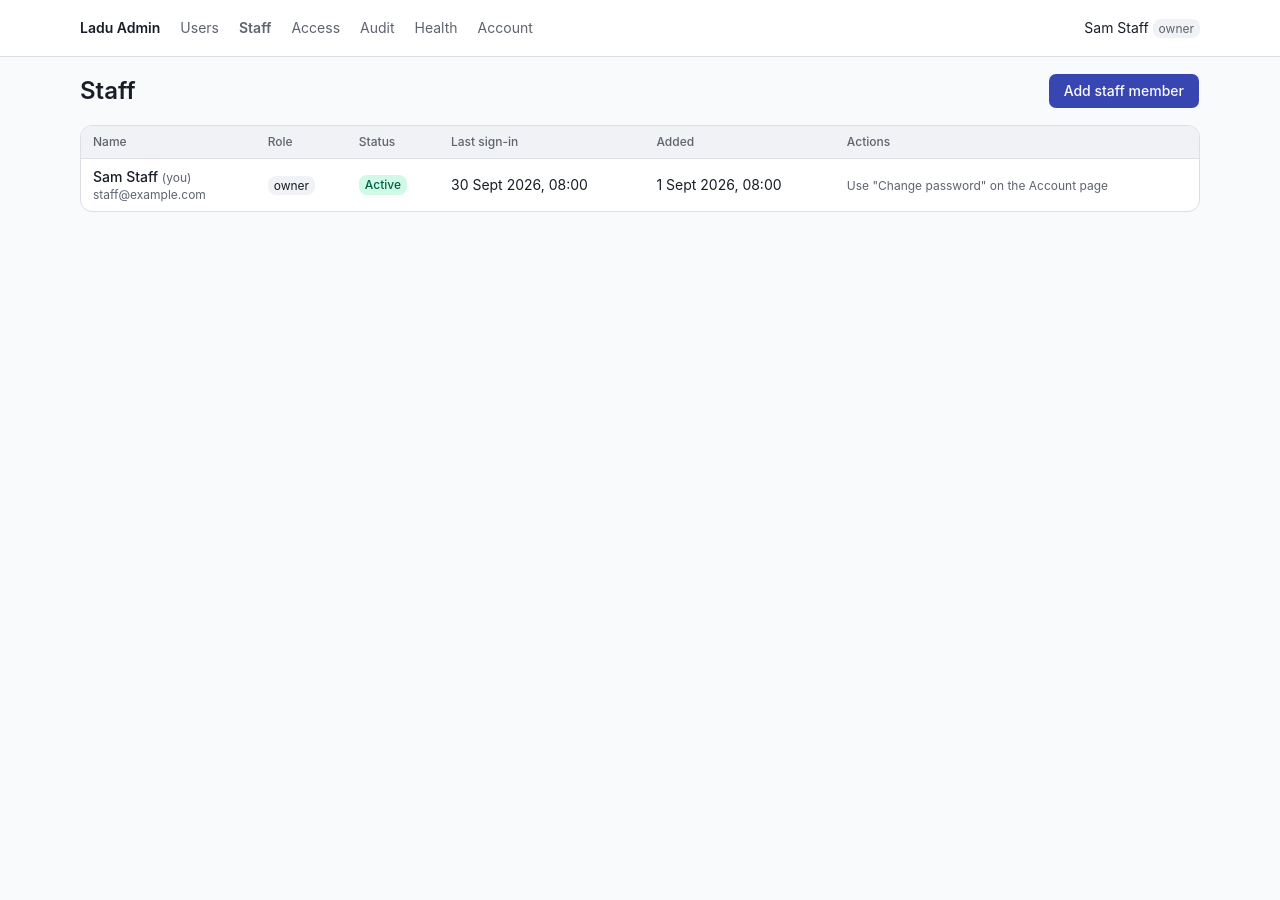
Scenario: add a staff member › closes on Cancel and sends nothing
Step 1. Click the button "Add staff member" → (1124, 91), box 1048,73 -> 1200,109
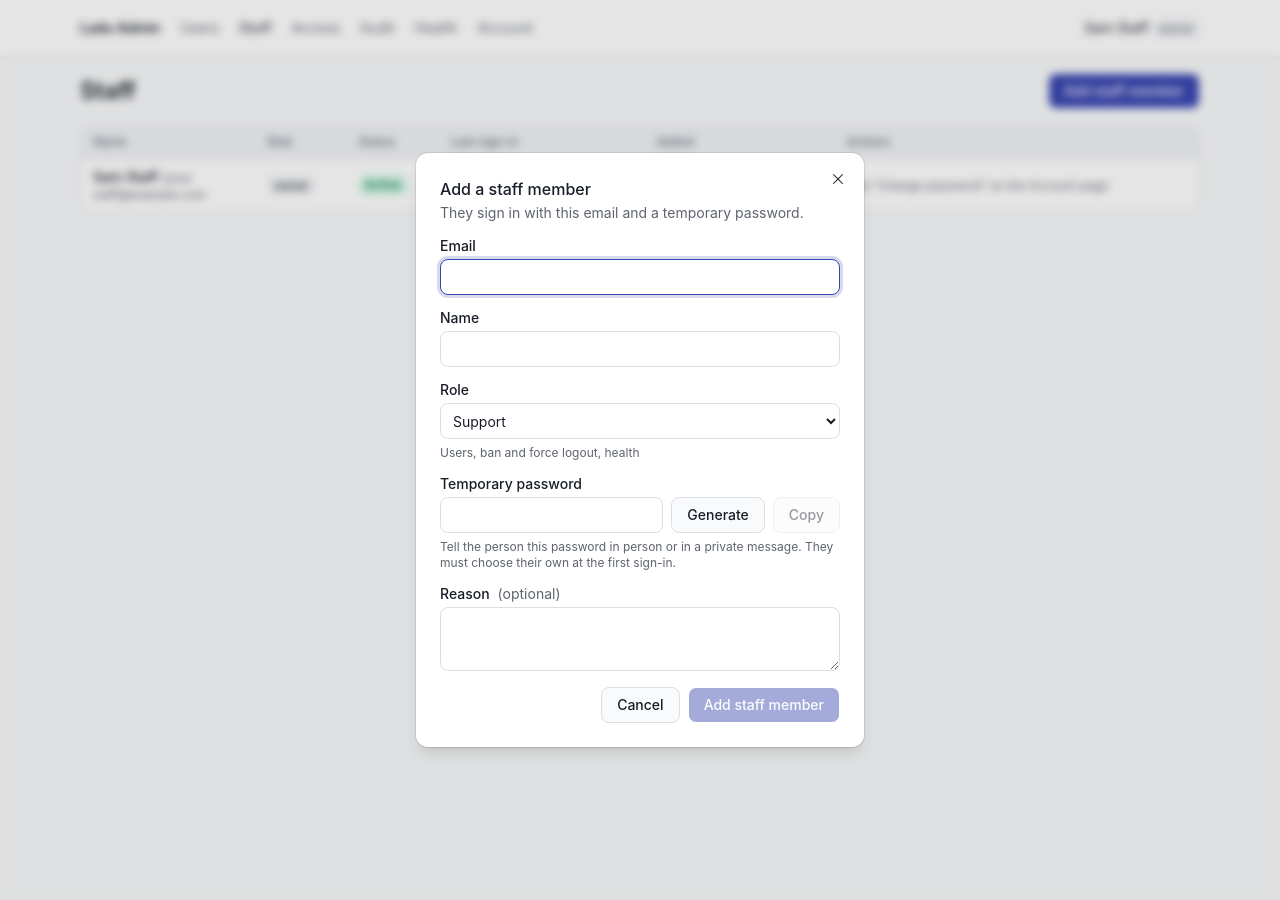
Step 2. Click the button "Cancel" → (640, 705), box 601,687 -> 680,723
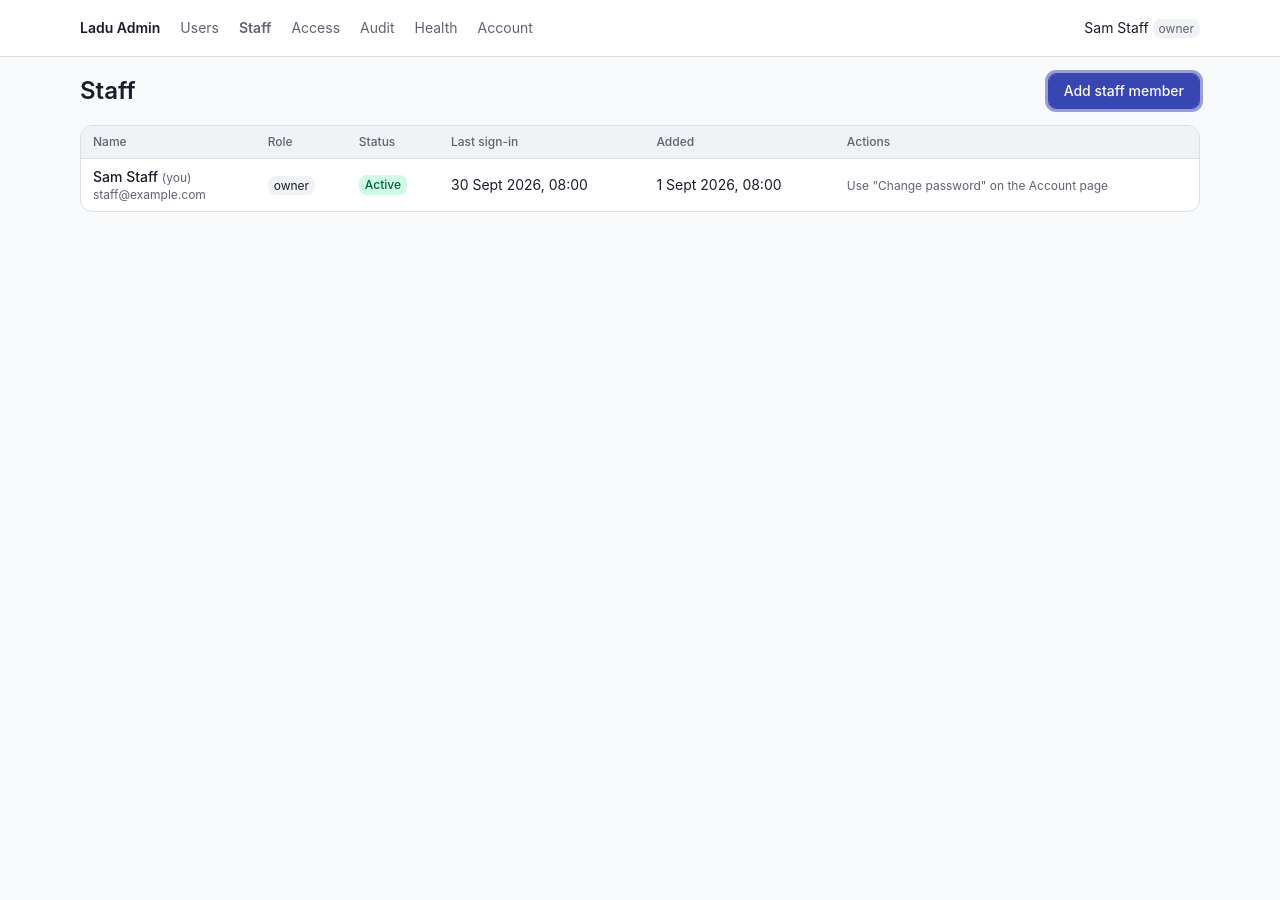
Check: the dialog is gone
